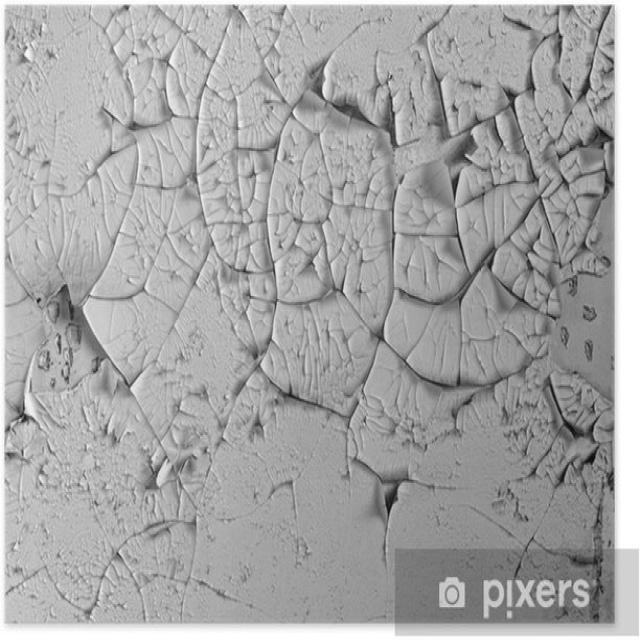peeling paint: (5, 3, 615, 625)
